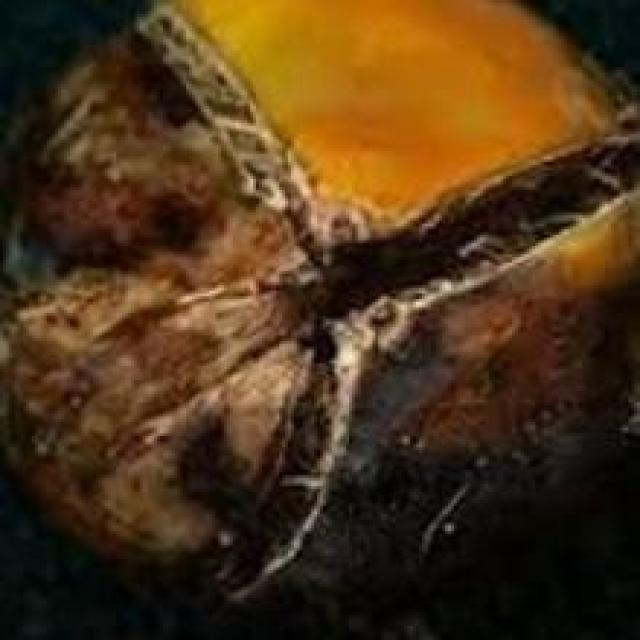damaged: (0, 0, 637, 604)
